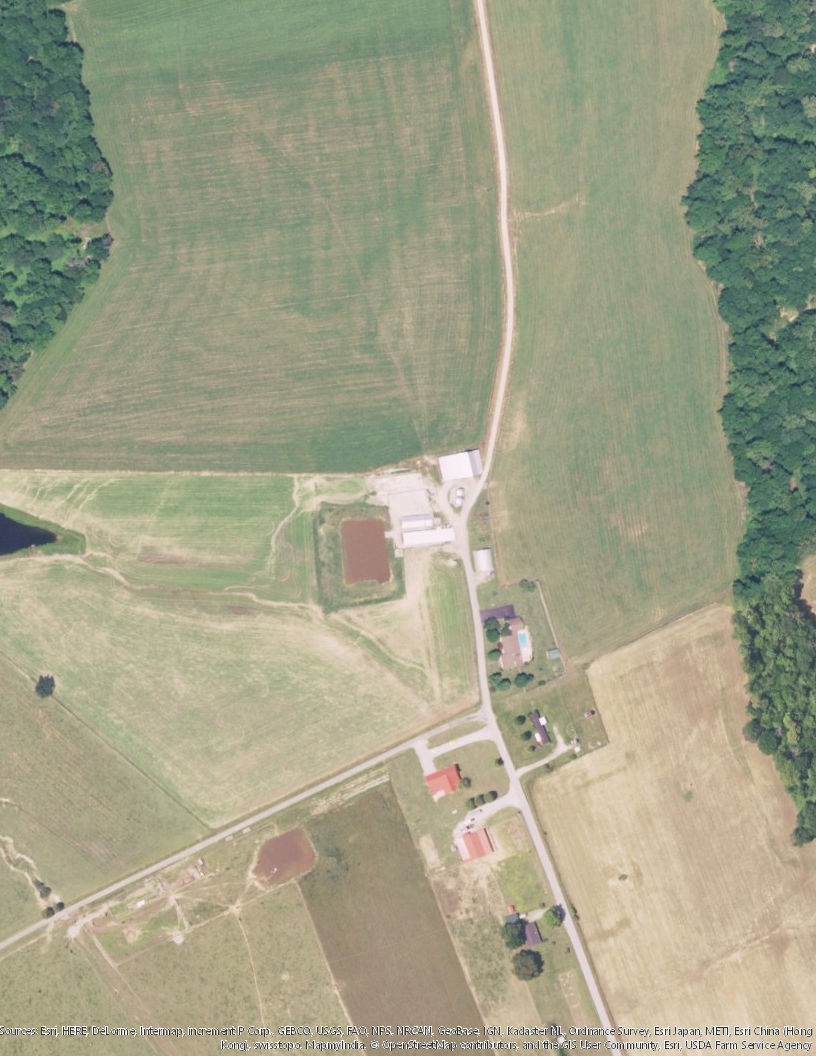cafo: (435, 446, 489, 483), (399, 526, 461, 551), (469, 545, 496, 577), (399, 511, 433, 532)
